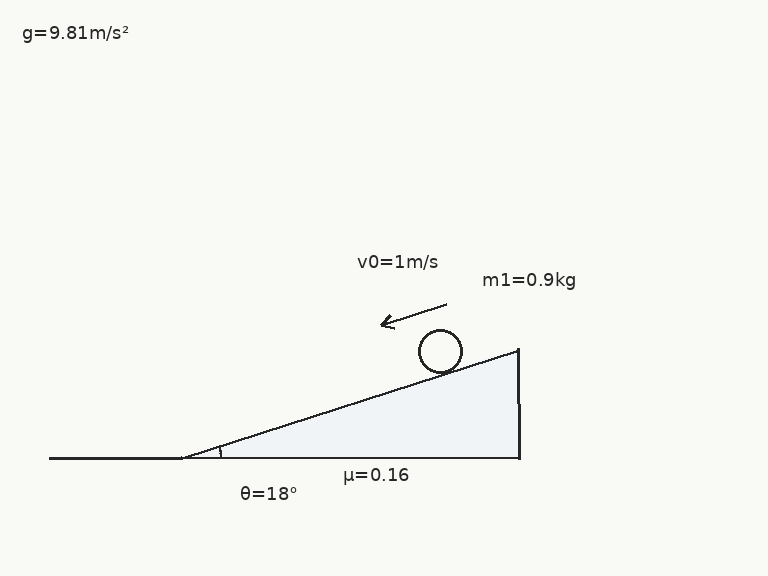ball: (416, 327, 464, 375)
ramp: (179, 346, 521, 460)
